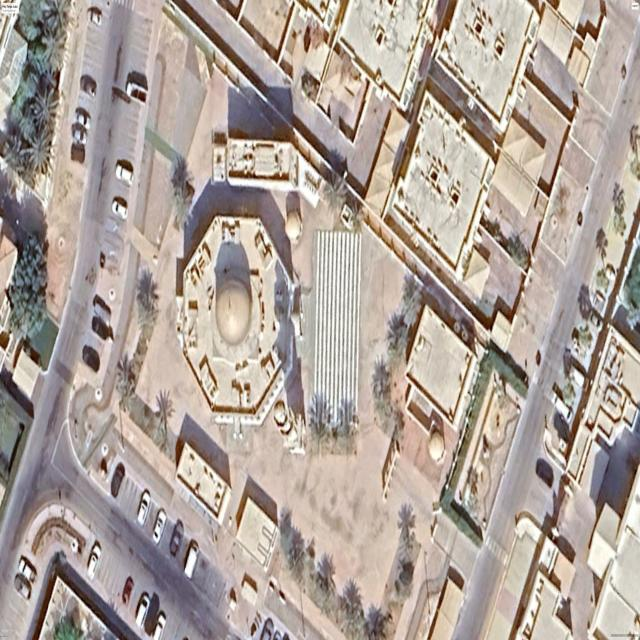mosque: (175, 216, 290, 425)
